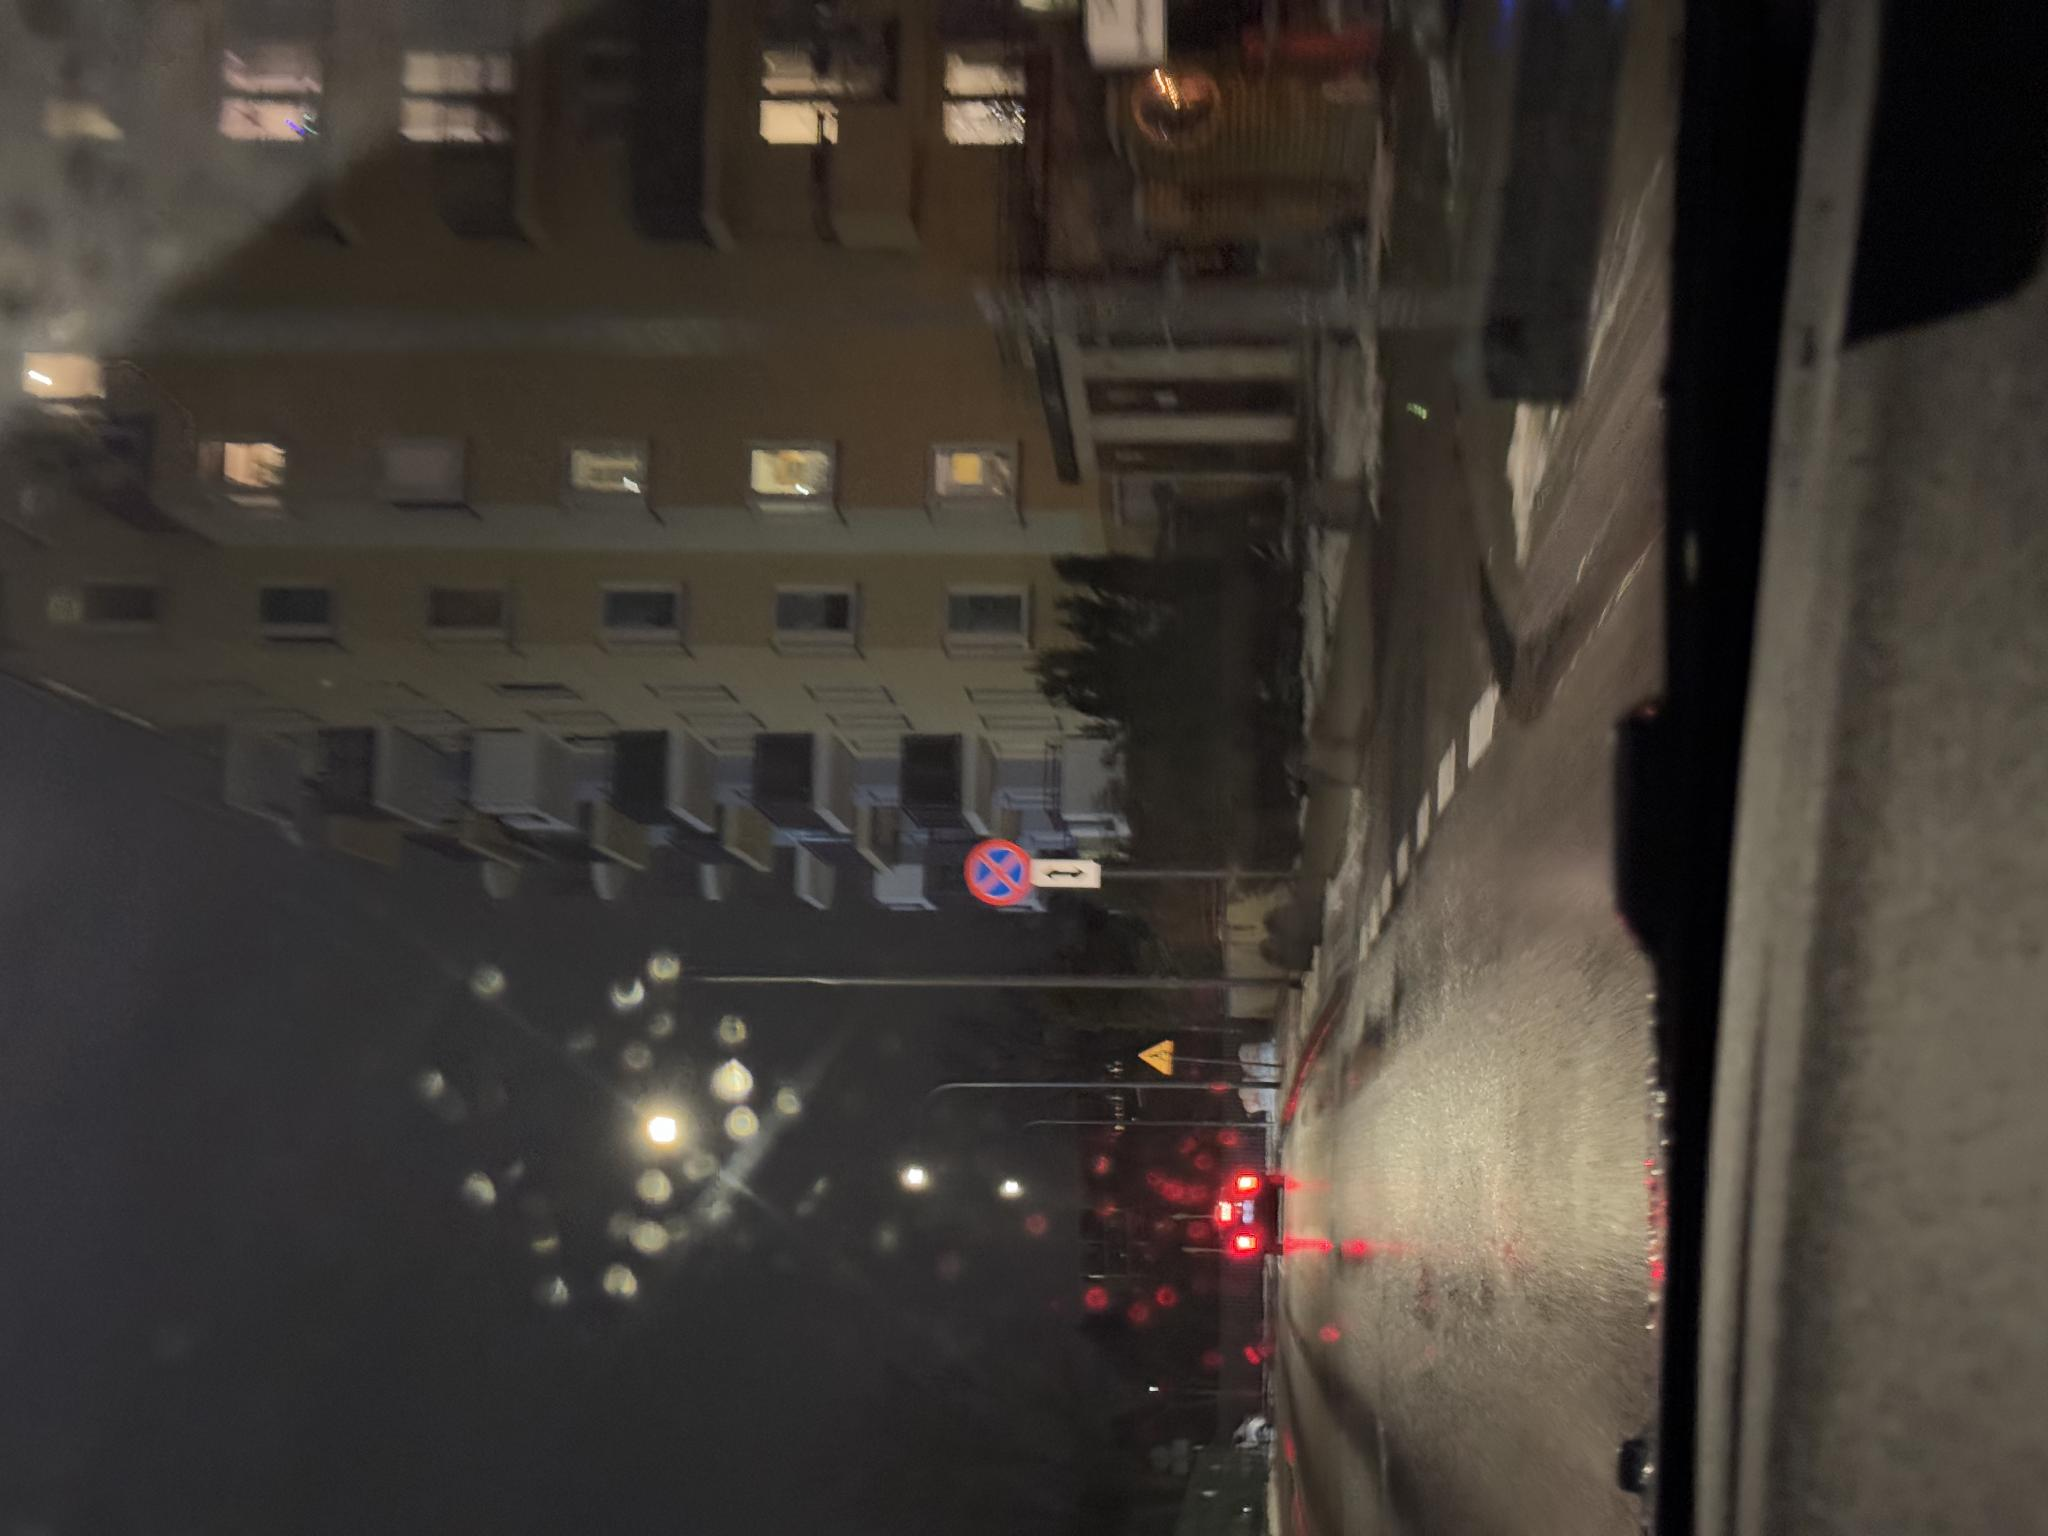other: (648, 1033, 679, 1099)
prohibitory: (629, 963, 698, 1033)
warning: (460, 1137, 498, 1175)
